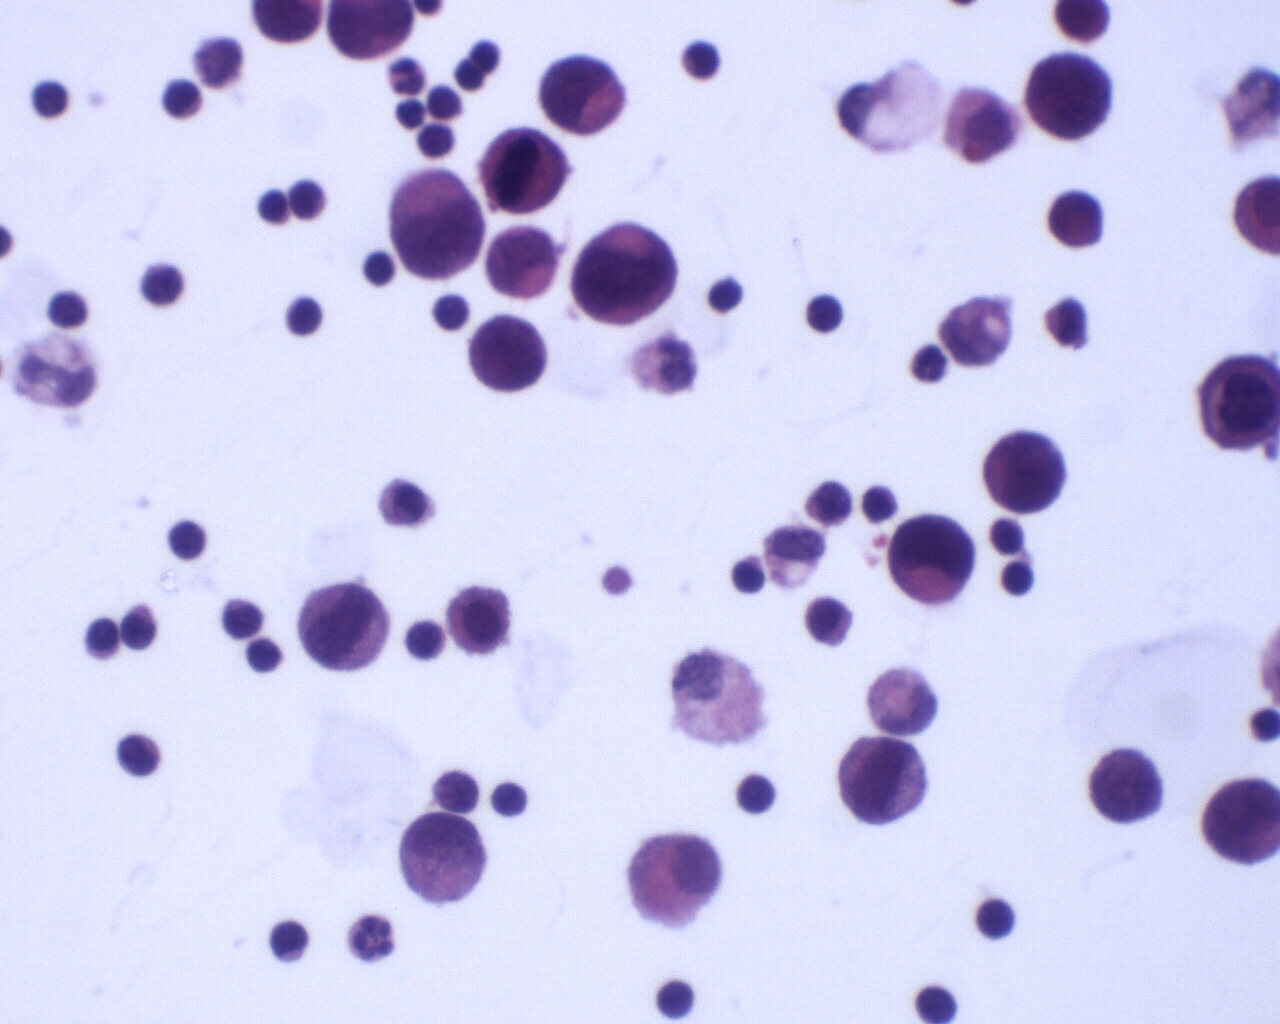ab: (568, 219, 681, 329), (389, 166, 486, 284), (295, 580, 391, 675), (887, 511, 977, 611), (1194, 350, 1280, 453), (479, 123, 572, 216), (838, 734, 930, 827), (1027, 50, 1115, 143), (539, 53, 629, 139), (1198, 774, 1280, 868), (983, 428, 1070, 515), (487, 222, 562, 307), (467, 312, 546, 391), (1088, 746, 1166, 824), (447, 582, 514, 659), (1046, 190, 1104, 252), (801, 594, 856, 648)
lymph: (651, 971, 705, 1023), (114, 731, 169, 779), (732, 771, 782, 822), (972, 894, 1018, 945), (44, 287, 92, 334), (157, 75, 204, 123), (679, 31, 725, 80), (25, 75, 72, 122), (165, 514, 209, 564), (802, 292, 843, 336), (285, 295, 324, 340), (997, 559, 1039, 599), (490, 779, 529, 821)
meso: (623, 831, 729, 934)
neutro: (344, 909, 400, 967), (906, 340, 949, 385), (385, 56, 428, 97)
